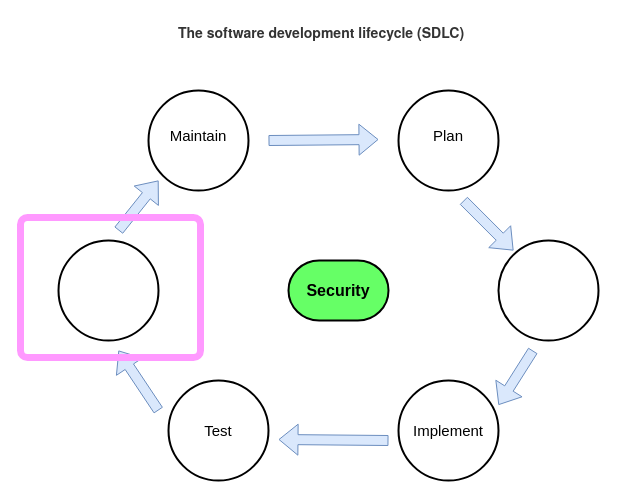
This 617x498 diagram has some shape labels left out. The shapes that lost their labels are listed below. From the top down, each one's centre as x and y in pixels, then its label:
point (108, 290): Deploy
point (548, 290): Design
